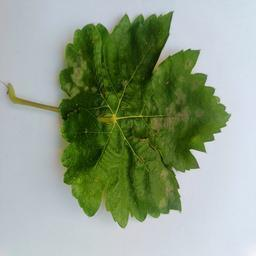Powdery-Mildew: (73, 156, 129, 210), (129, 133, 167, 194), (151, 88, 204, 130), (91, 22, 129, 66), (141, 65, 172, 111), (95, 88, 132, 124), (150, 166, 176, 210), (70, 53, 93, 96), (112, 186, 125, 217), (183, 57, 193, 67)
